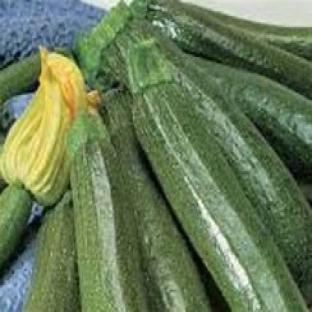Zucchini: (128, 42, 306, 311), (160, 40, 311, 300), (105, 92, 210, 311), (68, 113, 148, 311), (194, 59, 311, 180), (183, 4, 311, 60), (24, 194, 79, 311), (0, 186, 31, 267), (0, 53, 40, 104), (300, 184, 311, 202)
